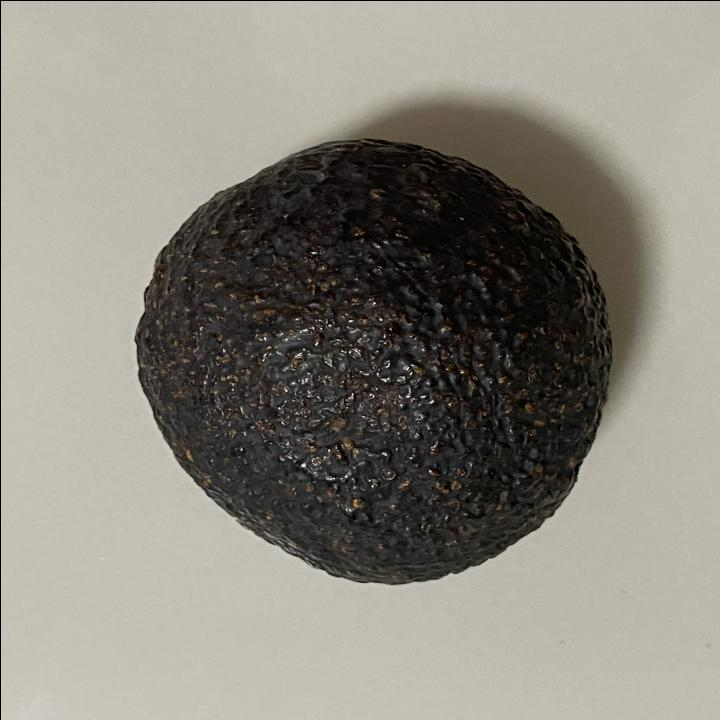Level3: (123, 130, 622, 595)
